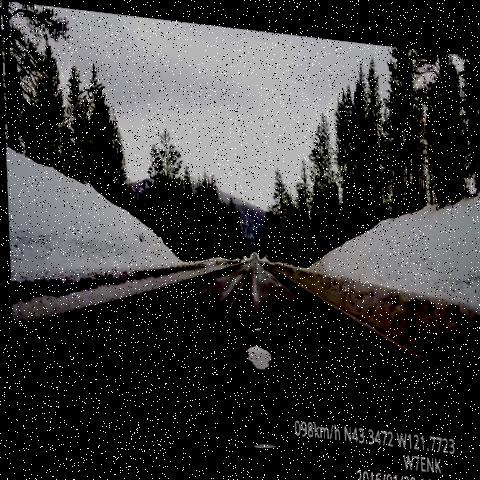pothole: (244, 388, 284, 444), (240, 323, 276, 379), (245, 314, 271, 337)
